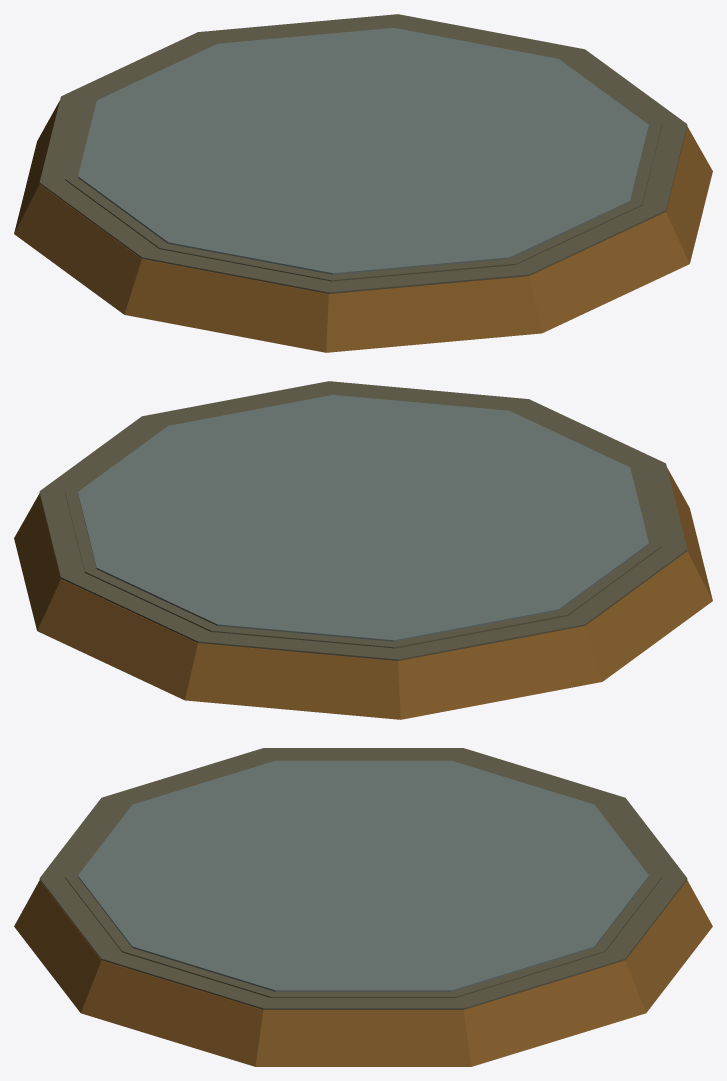
File: SM_Balsa_v0_Llena_LOD1.fbx
The picture shows the model from 3 angles, top to bottom: view 1: azimuth 30°, elevation 25°; view 2: azimuth 150°, elevation 25°; view 3: azimuth 270°, elevation 25°; orthographic projection. The views are drawn at different scales.
Visible parts, largest first — view 1: SM_viveres_nules_v15_LOD1; view 2: SM_viveres_nules_v15_LOD1; view 3: SM_viveres_nules_v15_LOD1.
Boxes of the visible parts, x1,y1,x2,y2 form: SM_viveres_nules_v15_LOD1: [14, 14, 712, 352]; SM_viveres_nules_v15_LOD1: [14, 381, 712, 719]; SM_viveres_nules_v15_LOD1: [14, 748, 712, 1066].
Size of the model in its own units: 15.6 by 1.32 by 16.4.
